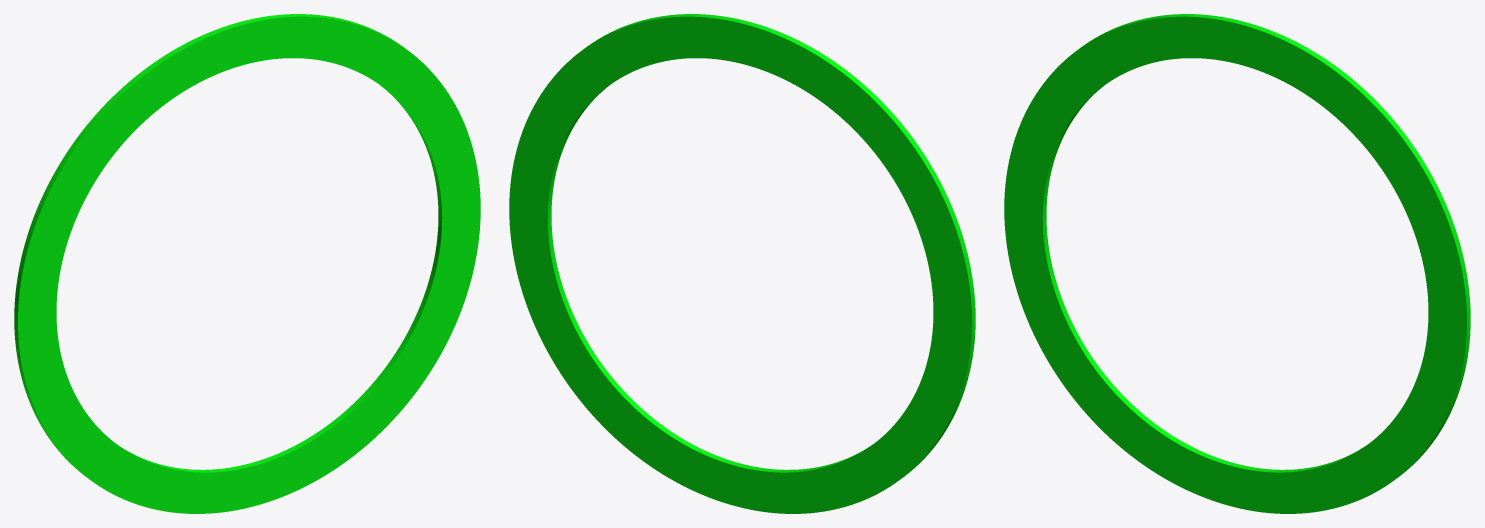
File: gate_round_big_green.dae
The picture shows the model from 3 angles, left to right: view 1: azimuth 30°, elevation 25°; view 2: azimuth 150°, elevation 25°; view 3: azimuth 330°, elevation 25°; orthographic projection.
Visible parts, largest first — view 1: gates_round_big; view 2: gates_round_big; view 3: gates_round_big.
Boxes of the visible parts, left/top/right/bottom form: gates_round_big: left=14, top=14, right=480, bottom=513; gates_round_big: left=509, top=14, right=975, bottom=513; gates_round_big: left=1004, top=14, right=1470, bottom=513.
Bounding box in the file's own units: 1.8 × 0.025 × 1.8.
